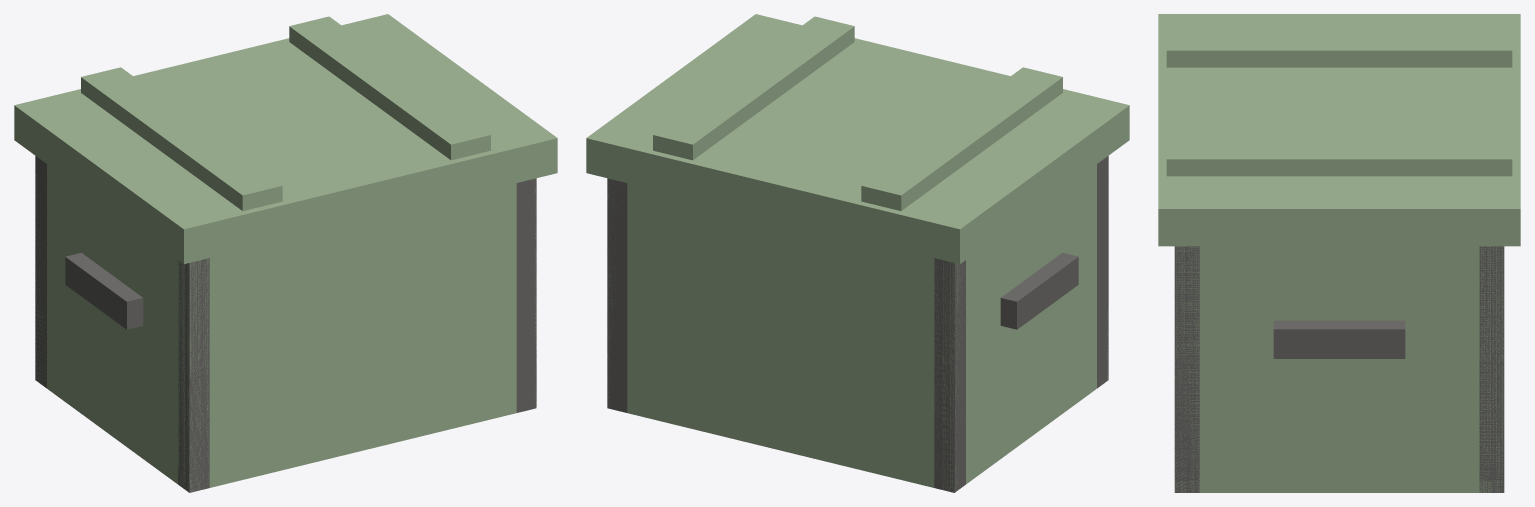
The model's file is greeble_crate.glb.
The picture shows the model from 3 angles, left to right: view 1: azimuth 30°, elevation 25°; view 2: azimuth 150°, elevation 25°; view 3: azimuth 270°, elevation 25°; orthographic projection. The views are drawn at different scales.
Parts seen in each view (by area): view 1: stowage_crate, stowage_crate_trim_dark; view 2: stowage_crate, stowage_crate_trim_dark; view 3: stowage_crate, stowage_crate_trim_dark.
Part boxes in pixels (bbox=[...]): stowage_crate: bbox=[14, 14, 557, 491]; stowage_crate_trim_dark: bbox=[35, 156, 536, 492]; stowage_crate: bbox=[586, 14, 1129, 492]; stowage_crate_trim_dark: bbox=[607, 156, 1108, 492]; stowage_crate: bbox=[1158, 14, 1520, 492]; stowage_crate_trim_dark: bbox=[1174, 246, 1504, 492].
Size of the model in its own units: 0.569 by 0.4125 by 0.44.
